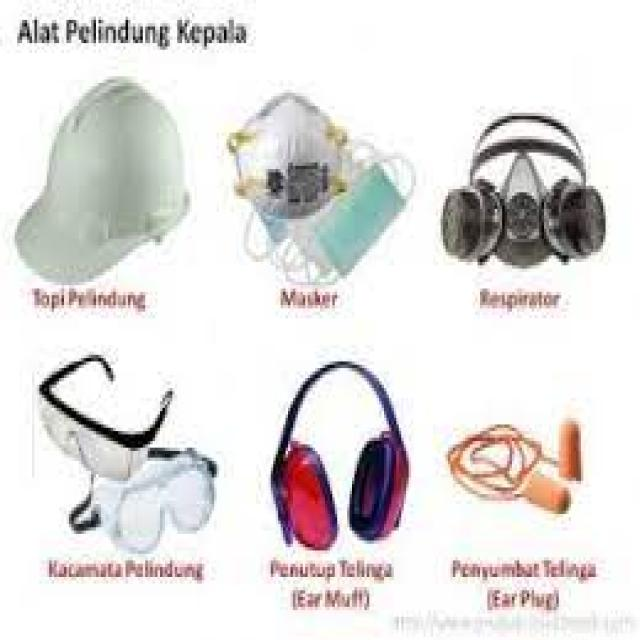glasses: (30, 362, 152, 482), (98, 456, 225, 554)
